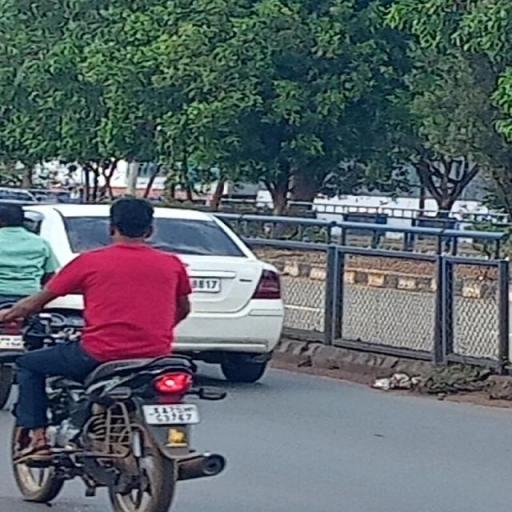bike: (6, 193, 234, 512)
withouthelmet: (112, 197, 154, 242)
